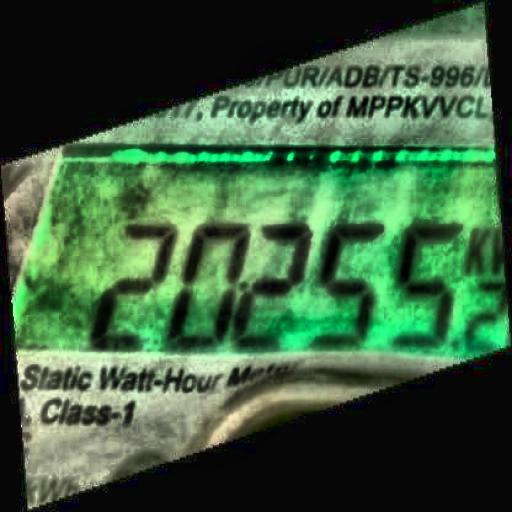DISPLAY_REGION: (3, 135, 511, 359)
SERIAL_REGION: (82, 207, 497, 349)
